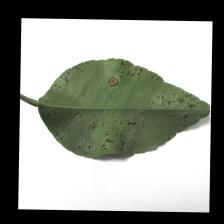canker: (50, 70, 139, 160)
